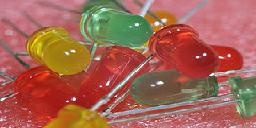LED: (133, 70, 229, 109), (16, 67, 83, 117), (149, 24, 213, 72), (27, 25, 90, 73), (82, 4, 146, 49)
